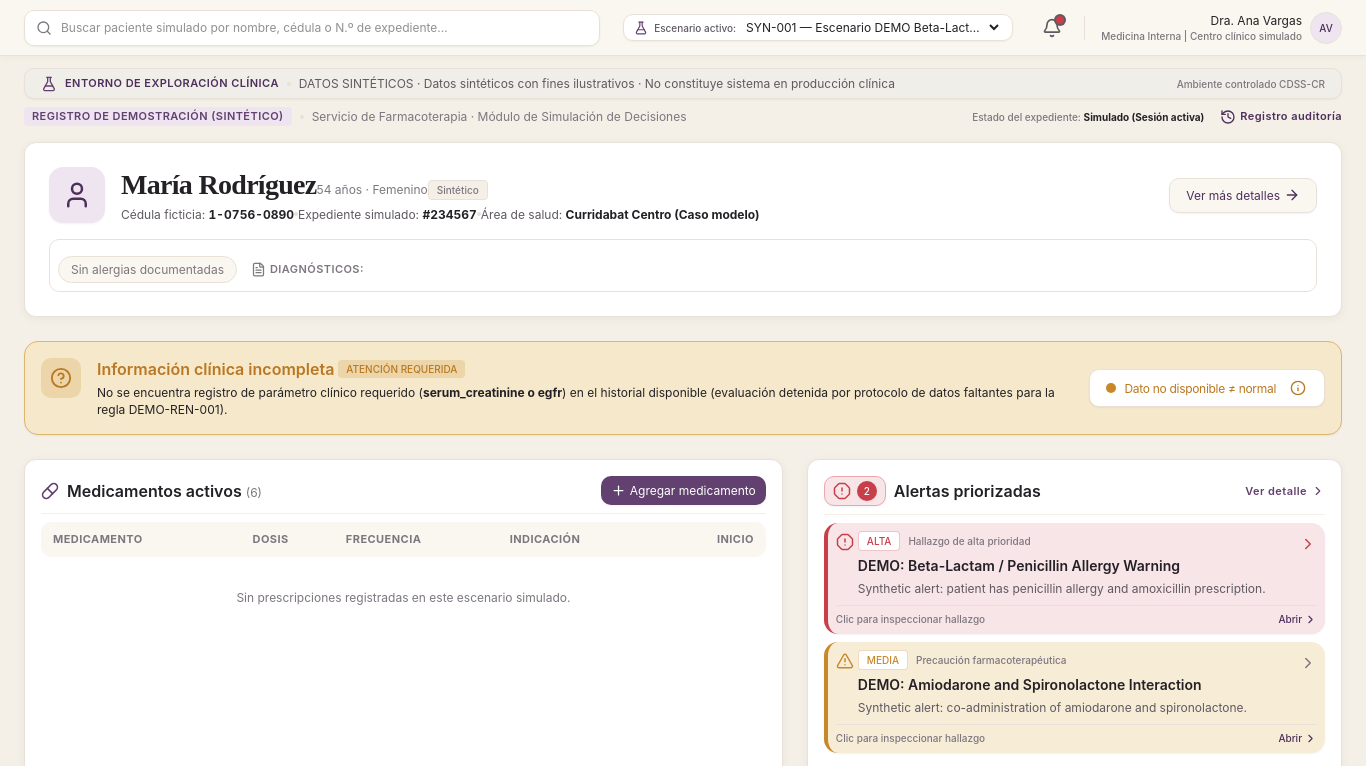
it: Dashboard Visual Baseline — 1:1 Stitch Converged › Data state › closes the alert detail inspector correctly when dismissed
Click the button named "abrir detalle de alertas": {"x": 855, "y": 491} x1=824 y1=476 x2=886 y2=506
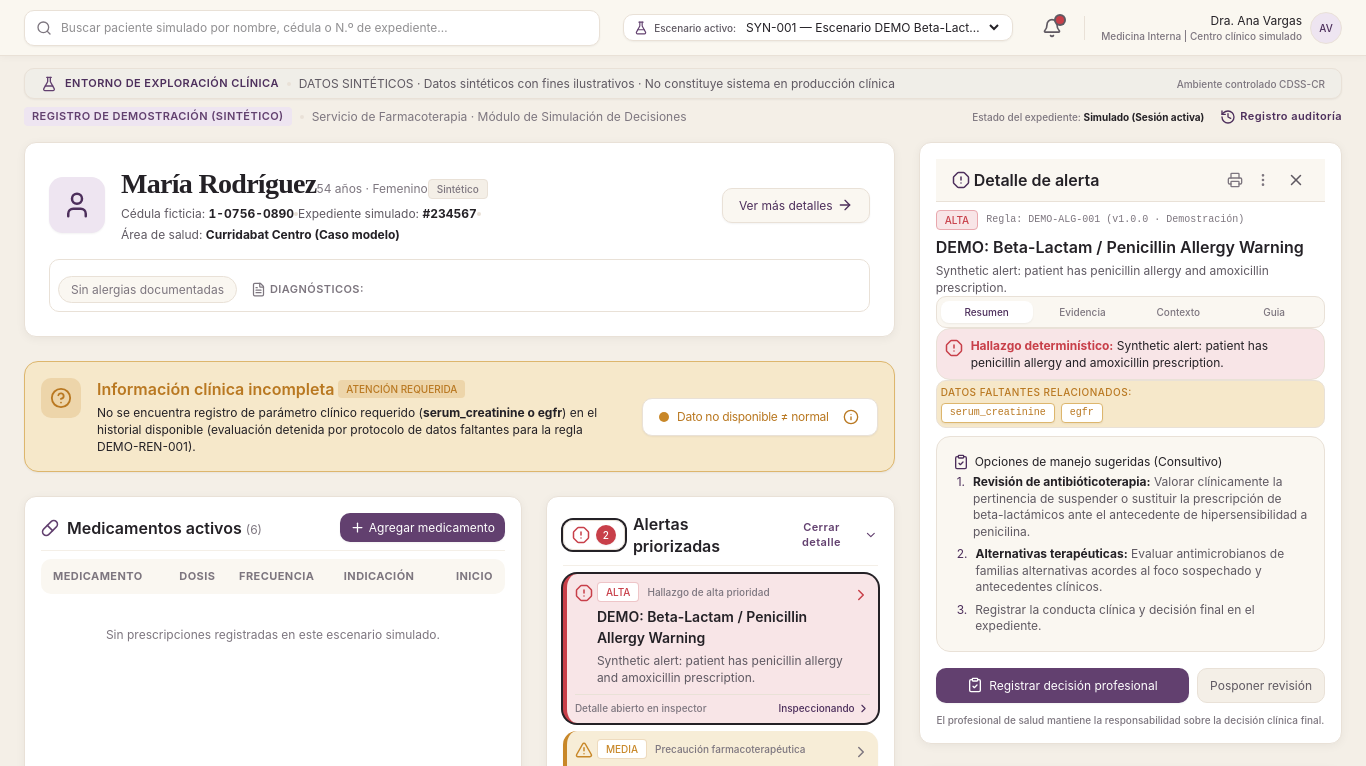
Now the element named "detalle de alerta clínica" is shown, box x1=919 y1=142 x2=1342 y2=744
Click the button named "cerrar detalle de alerta": {"x": 1296, "y": 180} x1=1283 y1=167 x2=1309 y2=193
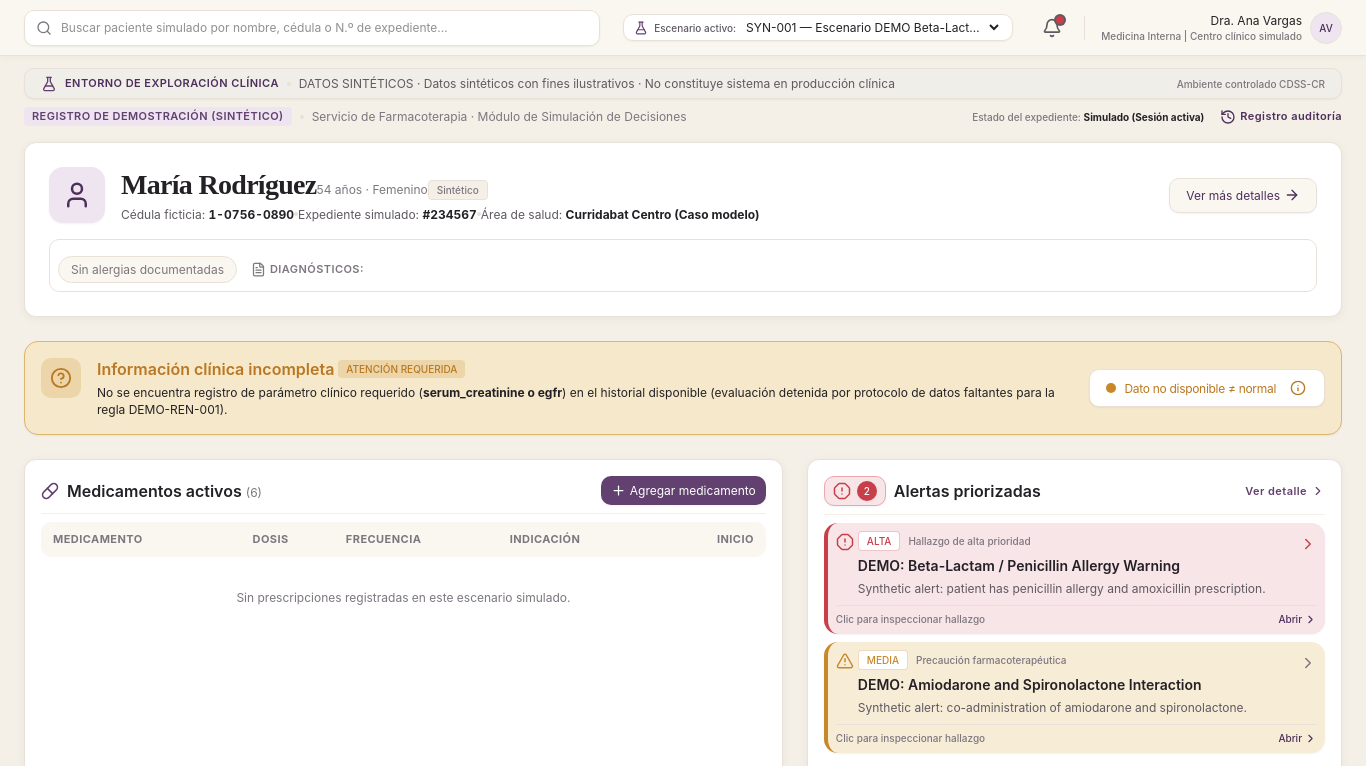
Now the button named "abrir detalle de alertas" is collapsed, box x1=824 y1=476 x2=886 y2=506
